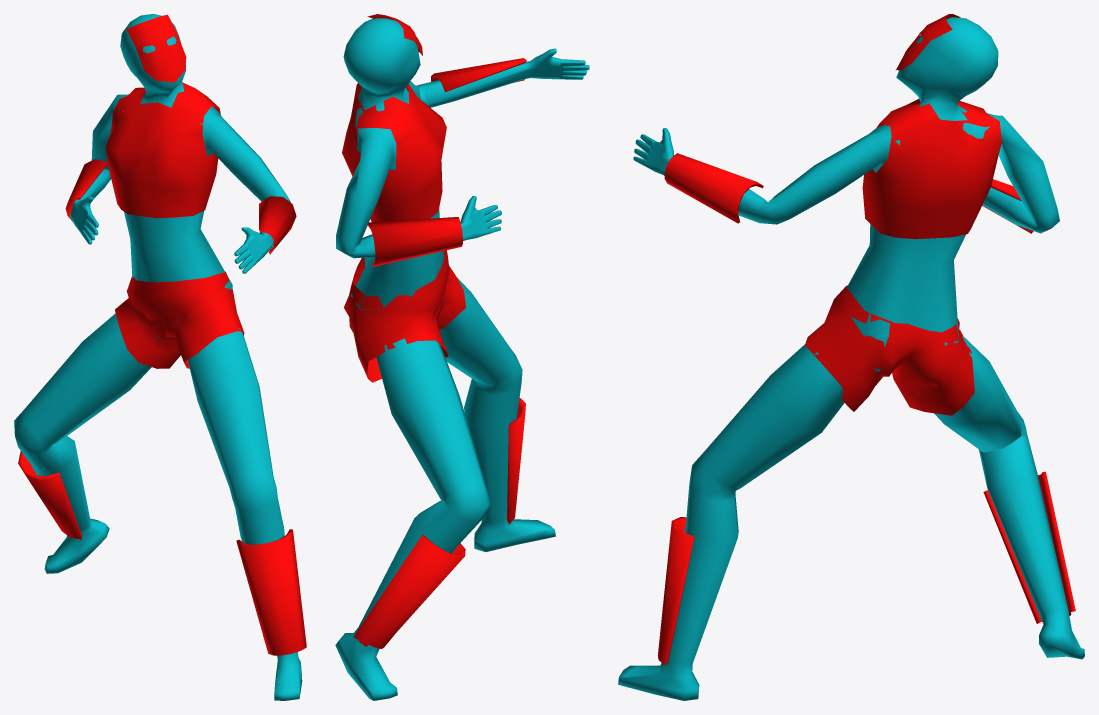
Rendered from d-func.obj.
The picture shows the model from 3 angles, left to right: view 1: azimuth 30°, elevation 25°; view 2: azimuth 150°, elevation 25°; view 3: azimuth 270°, elevation 25°; orthographic projection. The views are drawn at different scales.
Visible parts, largest first — view 1: D-Func_Cube; view 2: D-Func_Cube; view 3: D-Func_Cube.
Boxes of the visible parts, <box> form: D-Func_Cube: <box>14,14,306,700</box>; D-Func_Cube: <box>335,14,589,700</box>; D-Func_Cube: <box>618,14,1084,700</box>.
Bounding box in the file's own units: 0.6053 × 1.91 × 1.21.
